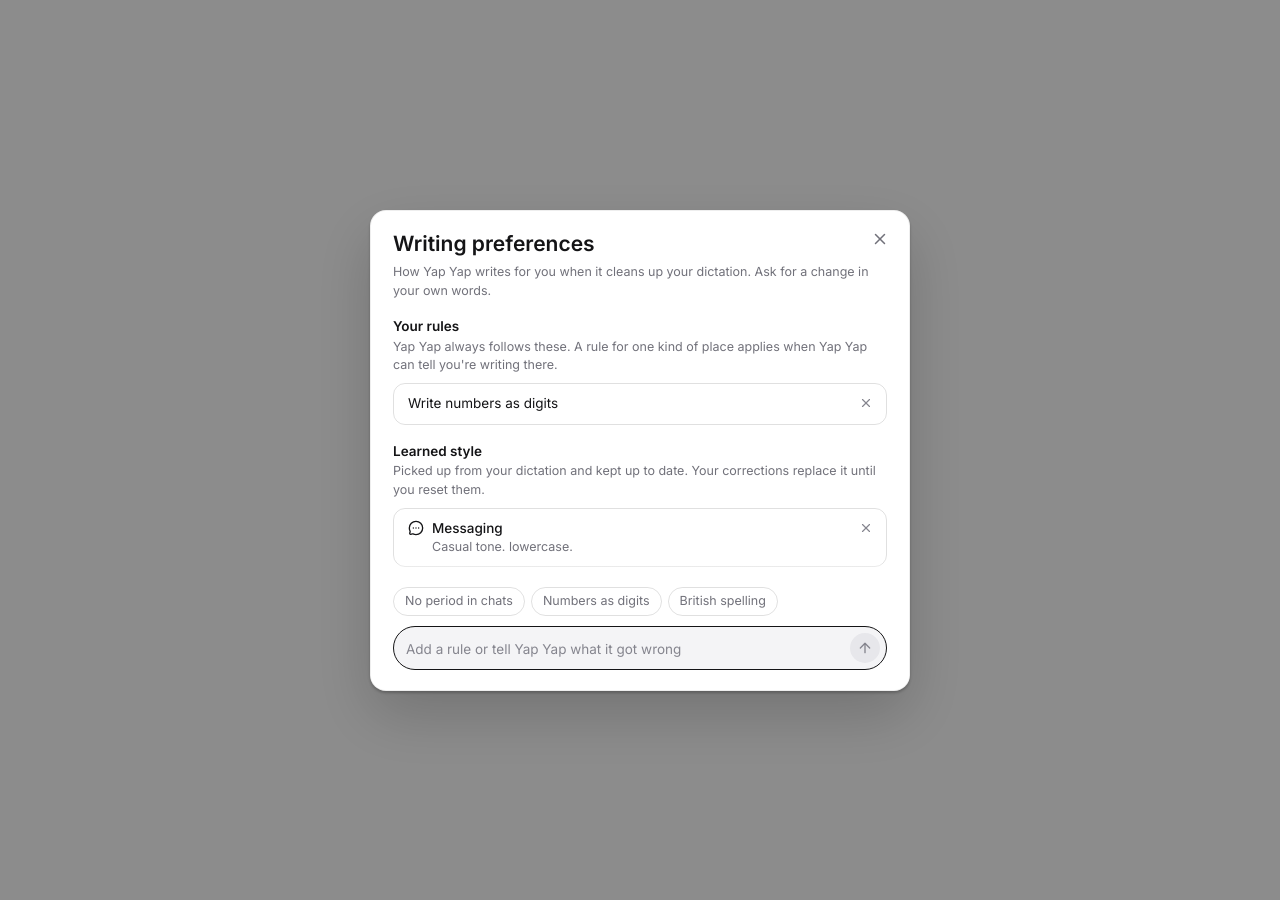
Test: Writing preferences editor › keeps Save disabled until the user chooses where an unplaced rule applies
This screenshot has width=1280, height=900.
Later steps or results of the test are not shown.
Type "No emoji in Figma" into the text box labelled "Add a rule or tell Yap Yap what it got wrong" at (624, 649), box [406,636,842,663]
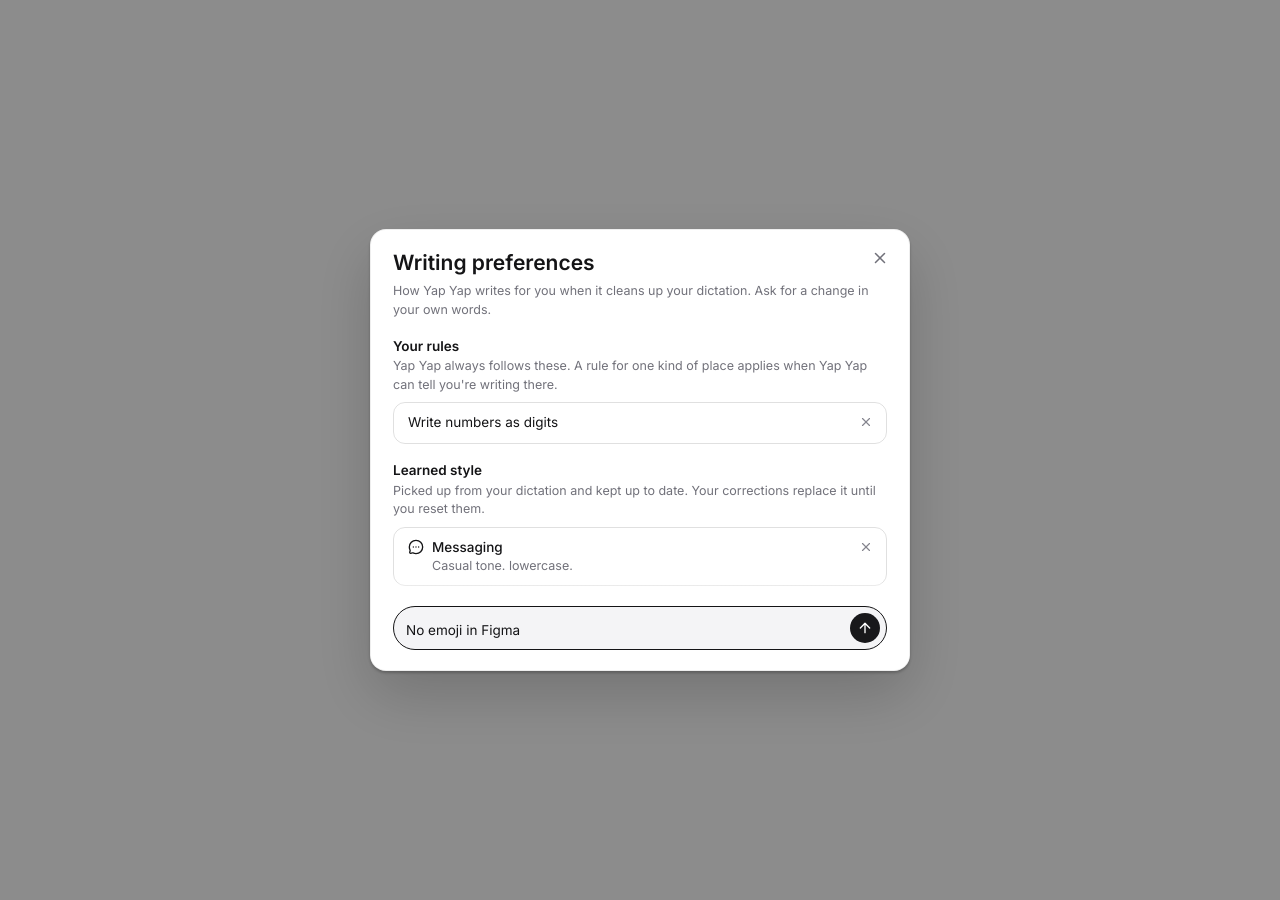
Click the button named "Preview change" at (865, 628), box [850,613,880,643]
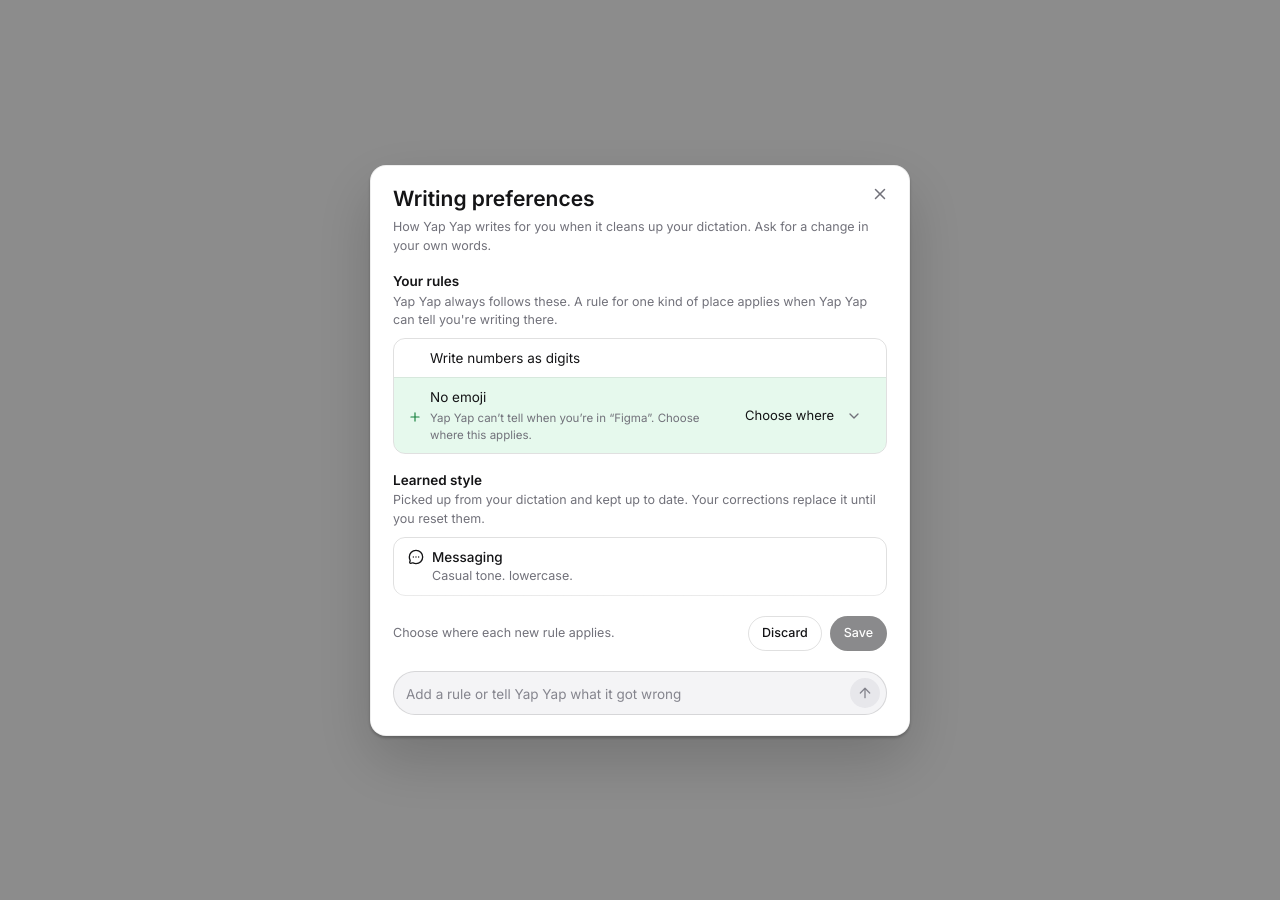
Result: the text "Choose where each new rule applies." is shown at [393,625,615,640]
Result: the button "Save" is disabled at [830,616,887,651]
Click the dropdown named "Where “No emoji” applies" at (804, 416), box [735,399,872,433]
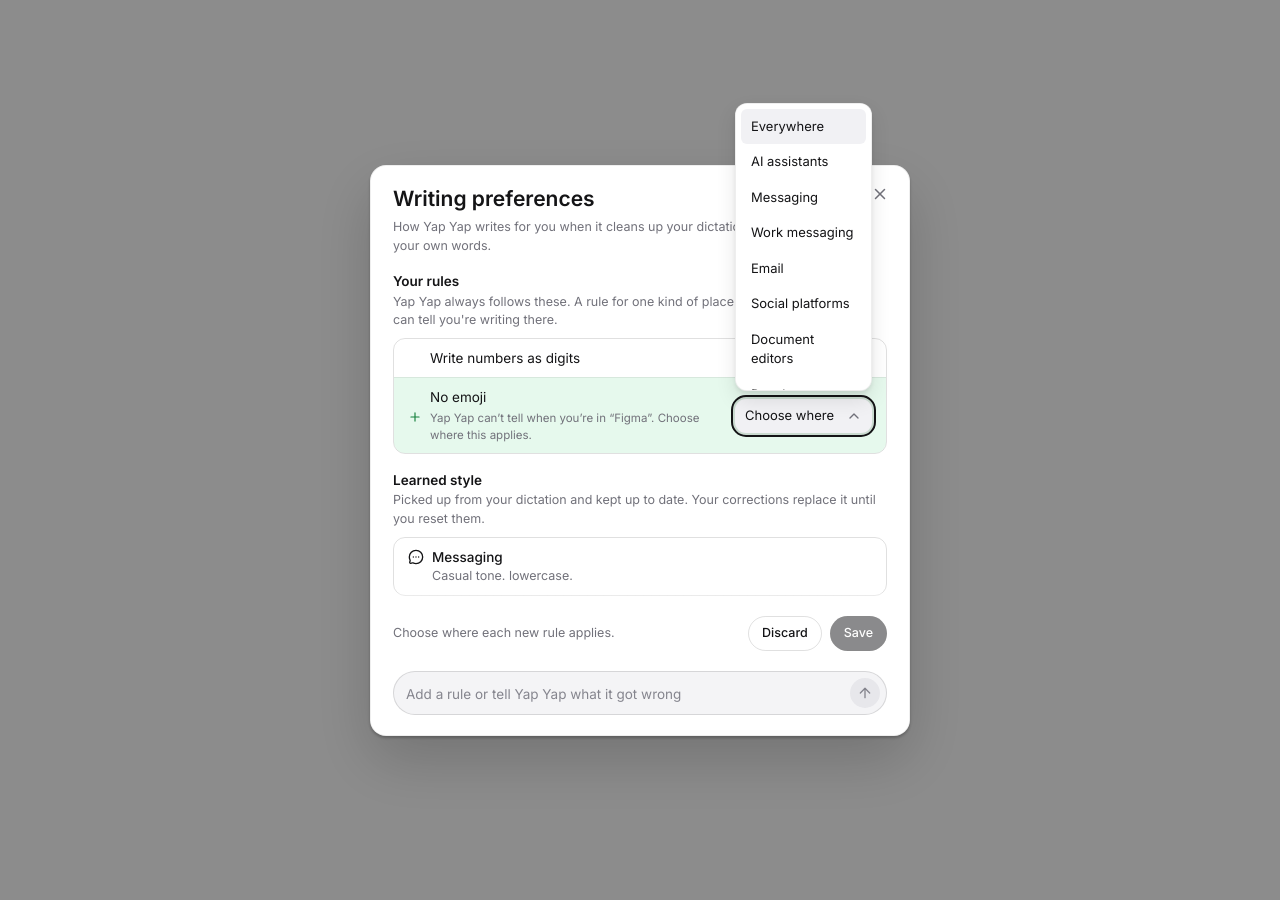
Click the option "Messaging" at (785, 197), box [751,189,818,205]
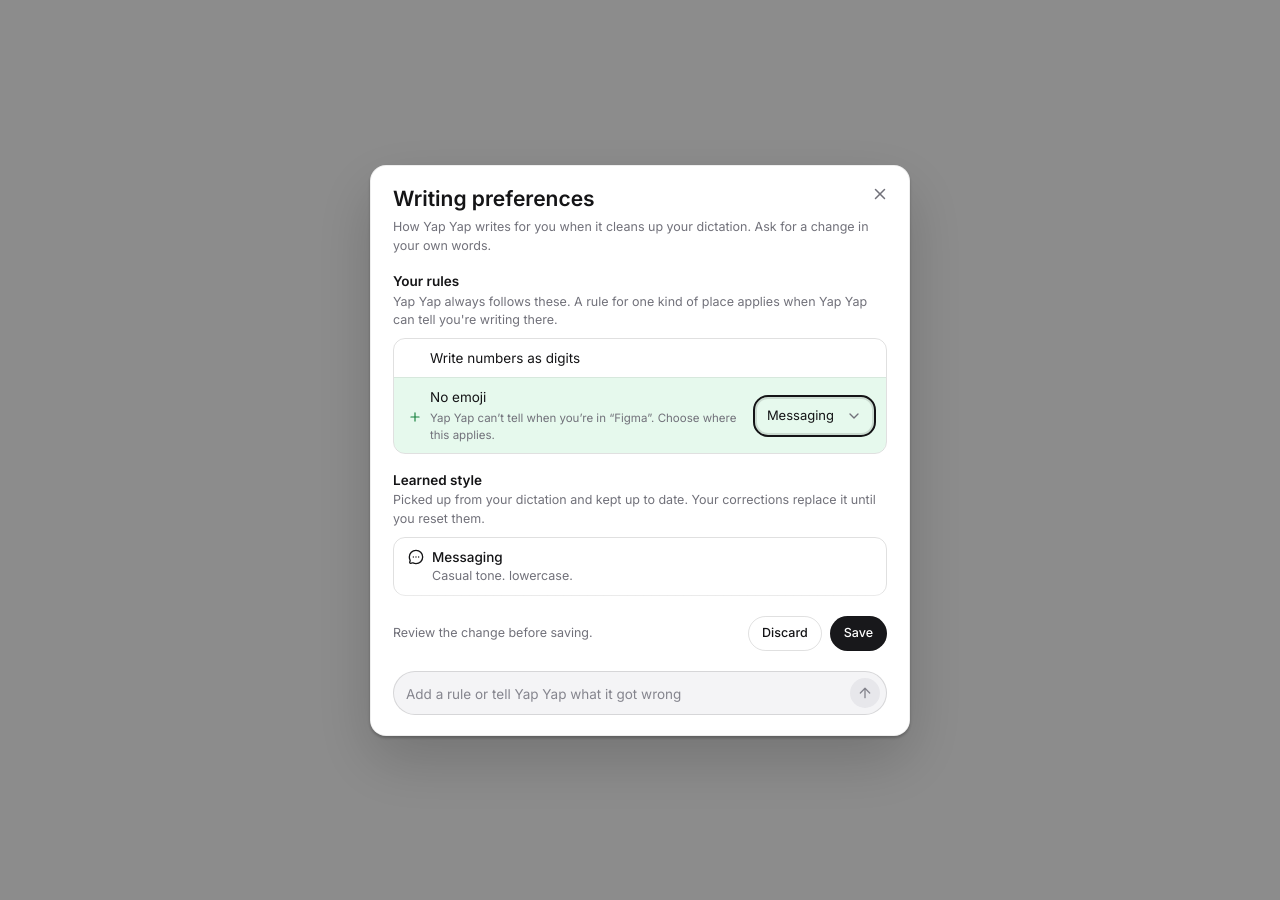
Result: the button "Save" is enabled at [830,616,887,651]
